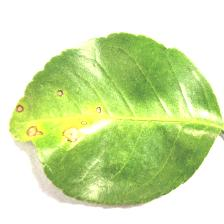greening: (9, 76, 110, 150)
